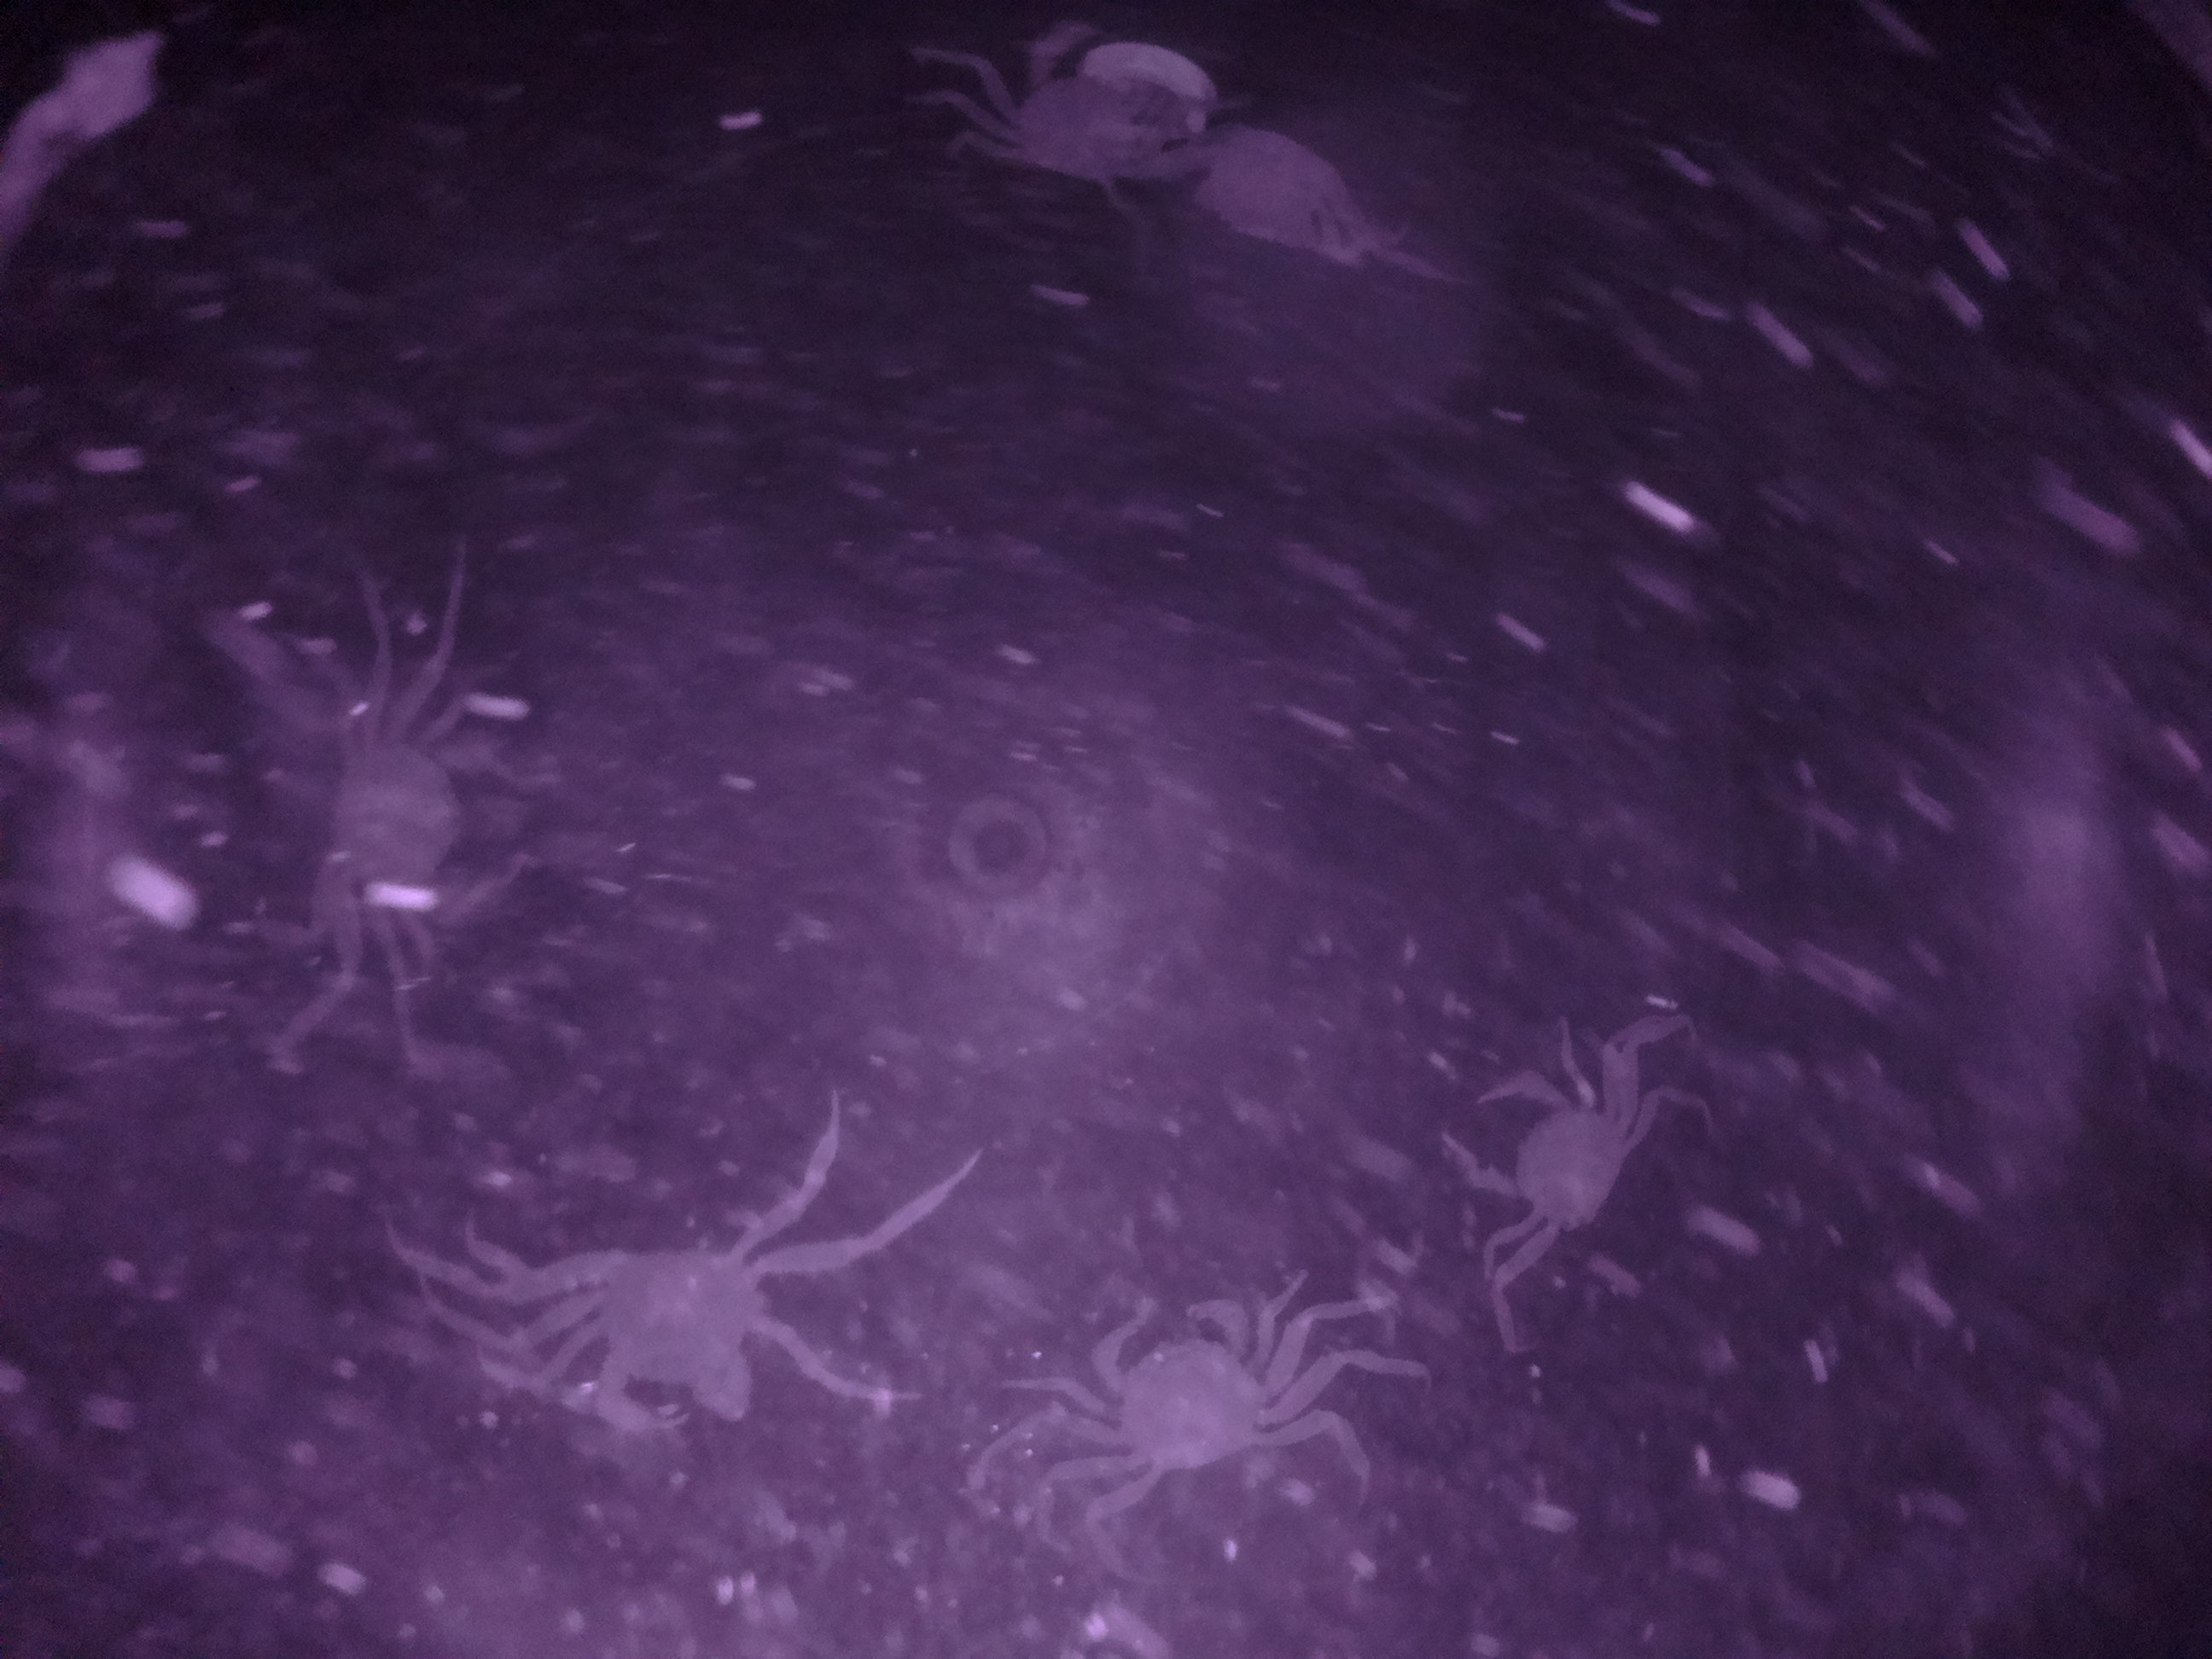Crab: (509, 1211, 792, 1436), (1036, 1288, 1299, 1493), (1416, 1066, 1686, 1263)
